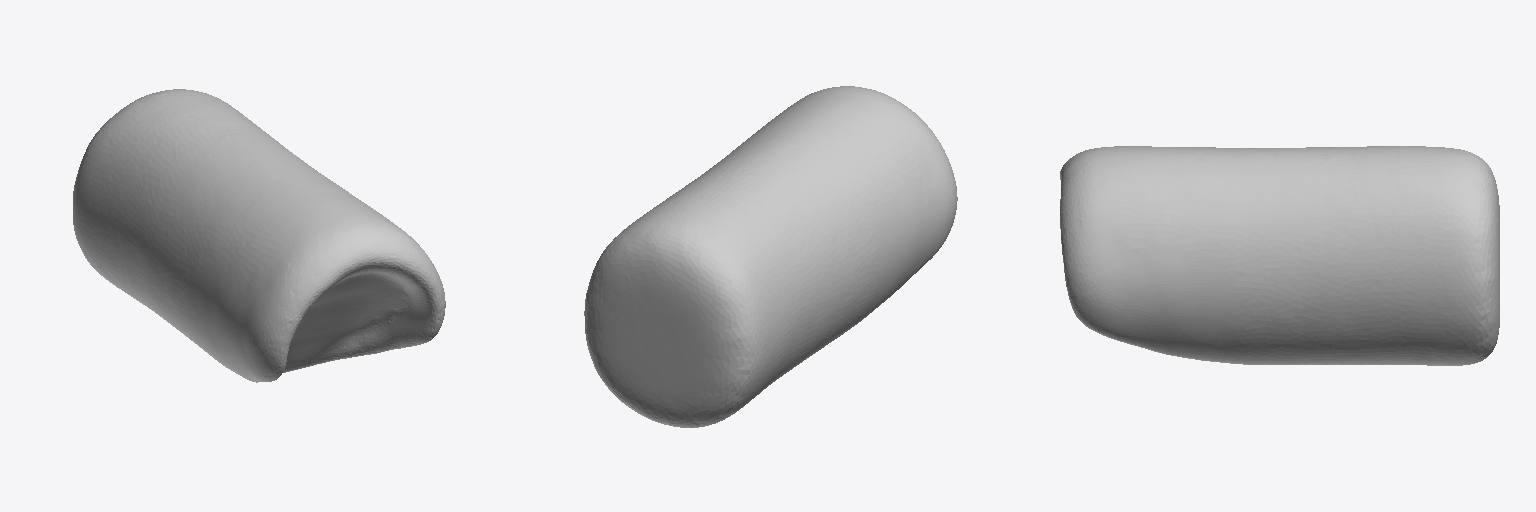
Rendered from leg.obj.
3 renders of one model, left to right at view 1: azimuth 30°, elevation 25°; view 2: azimuth 150°, elevation 25°; view 3: azimuth 270°, elevation 25°, orthographic.
Parts seen in each view (by area): view 1: Group34121; view 2: Group34121; view 3: Group34121.
Part boxes in pixels (x1,y1,x2,y2): Group34121: (73, 89, 445, 382); Group34121: (584, 86, 957, 427); Group34121: (1060, 146, 1499, 365).
Size of the model in its own units: 0.066 by 0.0682 by 0.1349.